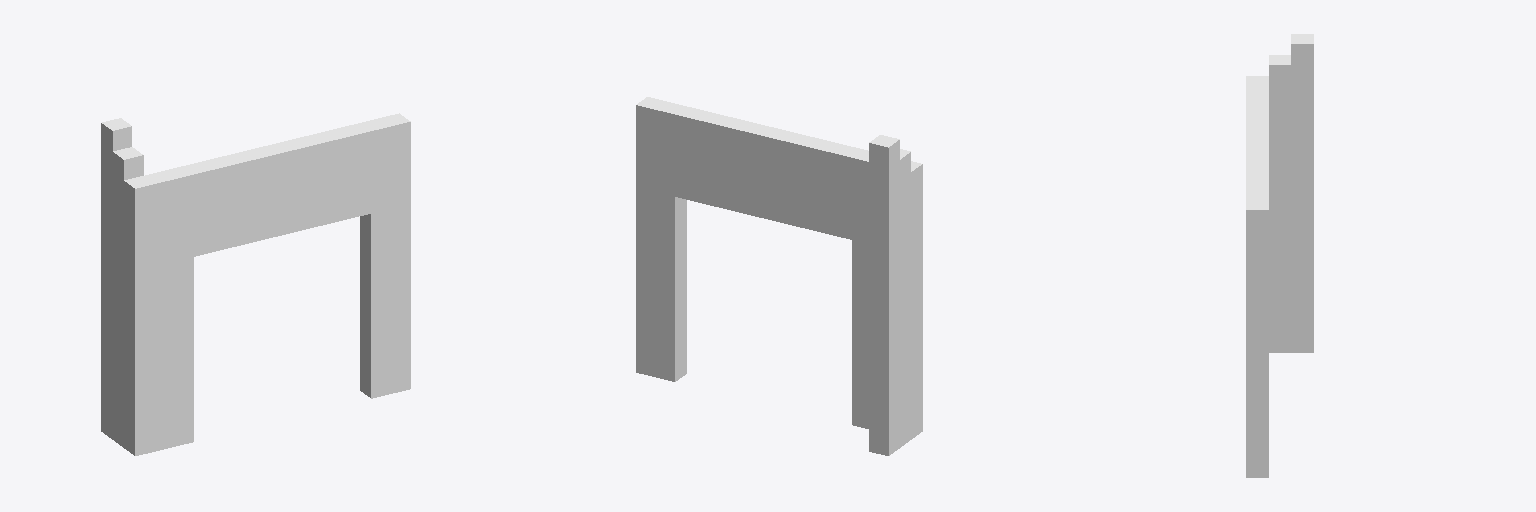
File: House-7-GarageWalls.obj
3 views of the same model, side by side, from view 1: azimuth 30°, elevation 25°; view 2: azimuth 150°, elevation 25°; view 3: azimuth 270°, elevation 25° (orthographic).
Visible parts, largest first — view 1: GarageWalls; view 2: GarageWalls; view 3: GarageWalls.
Boxes of the visible parts, box(x1,y1,x2,y2) form: GarageWalls: box(101, 113, 410, 455); GarageWalls: box(636, 97, 922, 455); GarageWalls: box(1246, 34, 1313, 477).
Bounding box in the file's own units: 1.4 × 1.5 × 0.3.